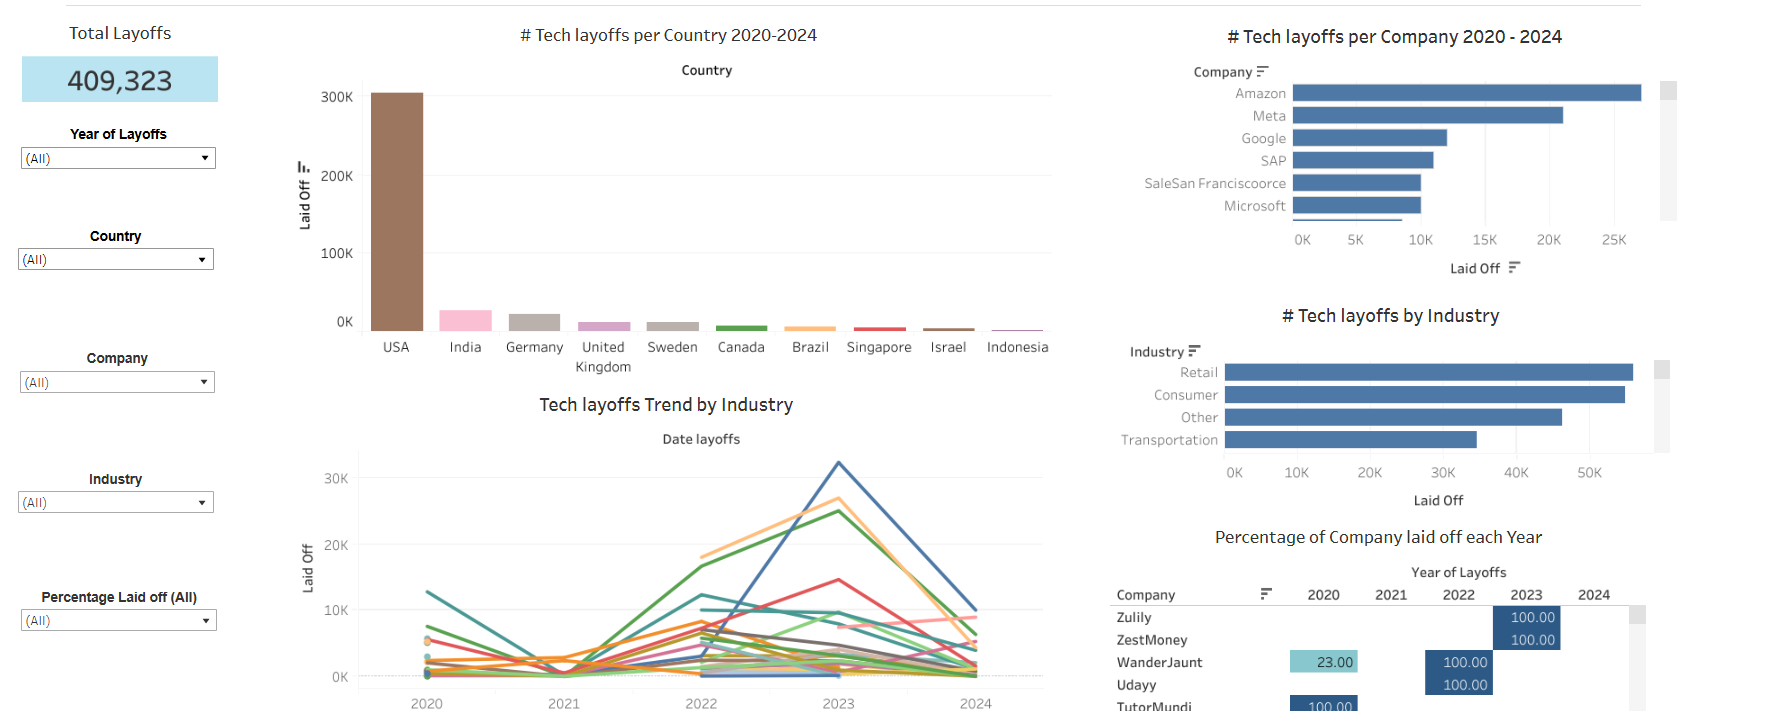

The dashboard page shown, as its layout file describes it:
{"tool":"tableau","page":{"name":"TECH LAYOFFS 2020-2024","canvas":[1000,1000],"units":"permille","ordinal":0},"visuals":[{"type":"worksheet","title":"KPIs","mark":"Automatic","box":[7,17.1,181.4,134.6]},{"type":"filter","title":"Top 10 Tech layoffs per Country 2020-2024","param":"[federated.1usan6t152vzbq19vp01i0ec4ykk].[none:Country:nk]","box":[188.5,17.1,203.5,134.6]},{"type":"filter","title":"Top 10 Tech layoffs per Country 2020-2024","param":"[federated.1usan6t152vzbq19vp01i0ec4ykk].[none:Year (copy)_1055566173478916:ok]","box":[392,17.1,107.6,134.6]},{"type":"filter","title":"Top 10 Tech layoffs per Country 2020-2024","param":"[federated.1usan6t152vzbq19vp01i0ec4ykk].[none:Company:nk]","box":[499.6,17.1,250.1,134.6]},{"type":"filter","title":"Tech Layoffs Trend","param":"[federated.1usan6t152vzbq19vp01i0ec4ykk].[none:Industry:nk]","box":[749.7,17.1,243.3,134.6]},{"type":"worksheet","title":"Top 10 Tech layoffs per Country 2020-2024","mark":"Automatic","rows":["Laid_Off"],"cols":["Country"],"box":[7,151.7,742.6,438]},{"type":"worksheet","title":"# Tech layoffs per Company 2020-2024","mark":"Automatic","rows":["Company"],"cols":["Laid_Off"],"box":[749.7,151.7,243.2,438]},{"type":"worksheet","title":"Tech Layoffs Trend","mark":"Automatic","rows":["Laid_Off"],"cols":["Date_layoffs"],"box":[7,589.6,397.3,393.3]},{"type":"worksheet","title":"Percentage Laid off per Year","mark":"Square","rows":["Company"],"cols":["Year (copy)_1055566173478916"],"box":[404.4,589.6,345.4,393.3]},{"type":"worksheet","title":"# Tech layoffs by Industry","mark":"Automatic","rows":["Industry"],"cols":["Laid_Off"],"box":[749.7,589.6,243.2,393.3]}]}

Visuals, with their boxes on the dashboard's canvas, which has no fixed pixel size, in thousandths of its width and height (x1, y1, x2, y2). These are canvas units, not pixel positions in the 1768x718 screenshot, which may show the page scaled, cropped or inside an application window:
"KPIs" worksheet: box(7, 17, 188, 152)
"Top 10 Tech layoffs per Country 2020-2024" filter: box(188, 17, 392, 152)
"Top 10 Tech layoffs per Country 2020-2024" filter: box(392, 17, 500, 152)
"Top 10 Tech layoffs per Country 2020-2024" filter: box(500, 17, 750, 152)
"Tech Layoffs Trend" filter: box(750, 17, 993, 152)
"Top 10 Tech layoffs per Country 2020-2024" worksheet: box(7, 152, 750, 590)
"# Tech layoffs per Company 2020-2024" worksheet: box(750, 152, 993, 590)
"Tech Layoffs Trend" worksheet: box(7, 590, 404, 983)
"Percentage Laid off per Year" worksheet (Square marks): box(404, 590, 750, 983)
"# Tech layoffs by Industry" worksheet: box(750, 590, 993, 983)
